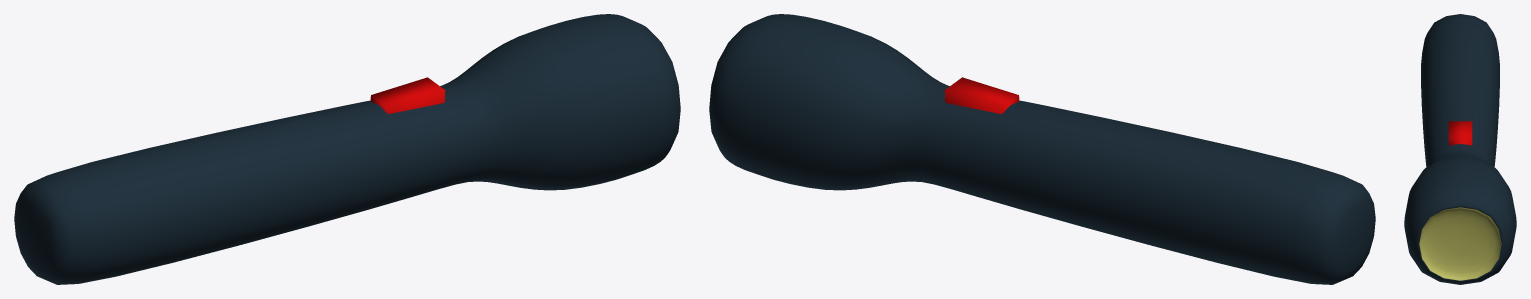
Rendered from Zaklamp.fbx.
3 renders of one model, left to right at view 1: azimuth 30°, elevation 25°; view 2: azimuth 150°, elevation 25°; view 3: azimuth 270°, elevation 25°, orthographic. The views are drawn at different scales.
Visible parts, largest first — view 1: Cube, Cube_001; view 2: Cube, Cube_001; view 3: Cube, Cube_001.
Boxes of the visible parts, <box> form: Cube: <box>14,14,680,284</box>; Cube_001: <box>370,77,445,114</box>; Cube: <box>709,14,1375,284</box>; Cube_001: <box>944,77,1019,114</box>; Cube: <box>1404,14,1516,284</box>; Cube_001: <box>1448,121,1472,145</box>.
Size of the model in its own units: 0.4692 by 0.1079 by 0.1094.
